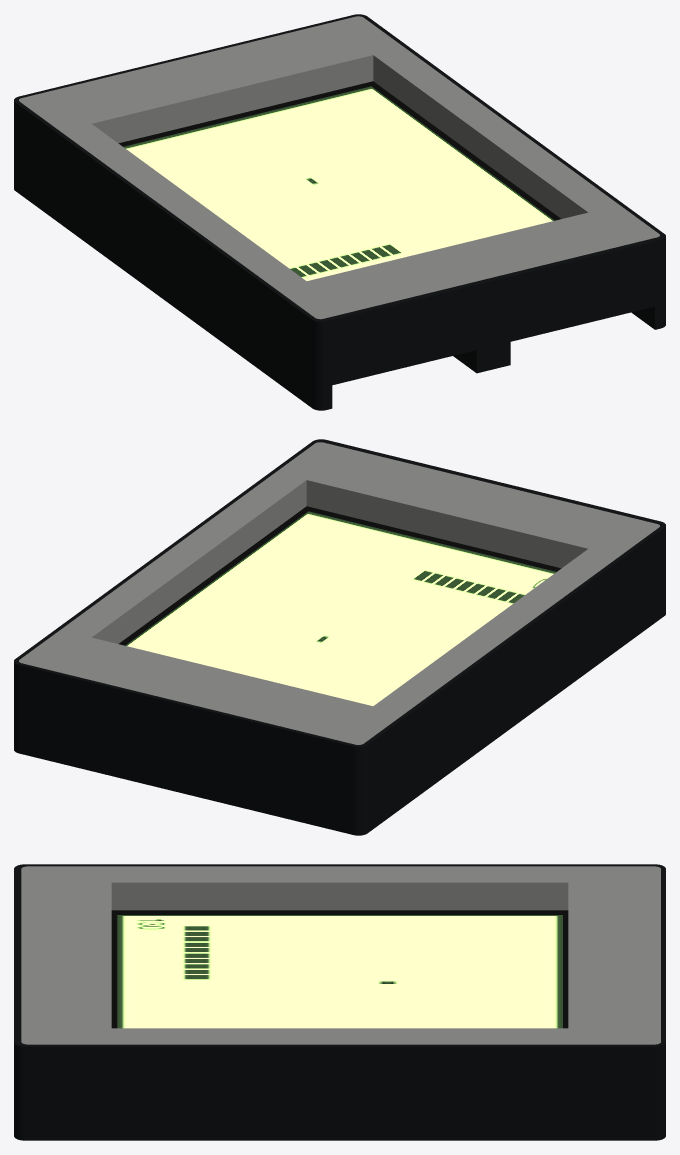
File: big-screen.glb
3 views of the same model, one above another, from view 1: azimuth 30°, elevation 25°; view 2: azimuth 150°, elevation 25°; view 3: azimuth 270°, elevation 25° (orthographic). The views are drawn at different scales.
Visible parts, largest first — view 1: black, lid_grey, screen_f0, gloss; view 2: black, lid_grey, screen_f0, gloss; view 3: black, lid_grey, screen_f0, gloss.
Part boxes in pixels (x1=…): black: x1=14, y1=14, x2=665, y2=410; lid_grey: x1=19, y1=16, x2=659, y2=319; screen_f0: x1=123, y1=86, x2=554, y2=280; gloss: x1=118, y1=81, x2=560, y2=220; black: x1=14, y1=439, x2=665, y2=835; lid_grey: x1=19, y1=442, x2=659, y2=744; screen_f0: x1=125, y1=511, x2=556, y2=705; gloss: x1=119, y1=506, x2=561, y2=645; black: x1=14, y1=864, x2=665, y2=1140; lid_grey: x1=21, y1=866, x2=660, y2=1044; screen_f0: x1=117, y1=915, x2=562, y2=1028; gloss: x1=111, y1=910, x2=568, y2=1028.
Size of what is drawn, in the model's own units: 0.0395 by 0.0095 by 0.0597.
Materials: 9 (1 with a texture image).
